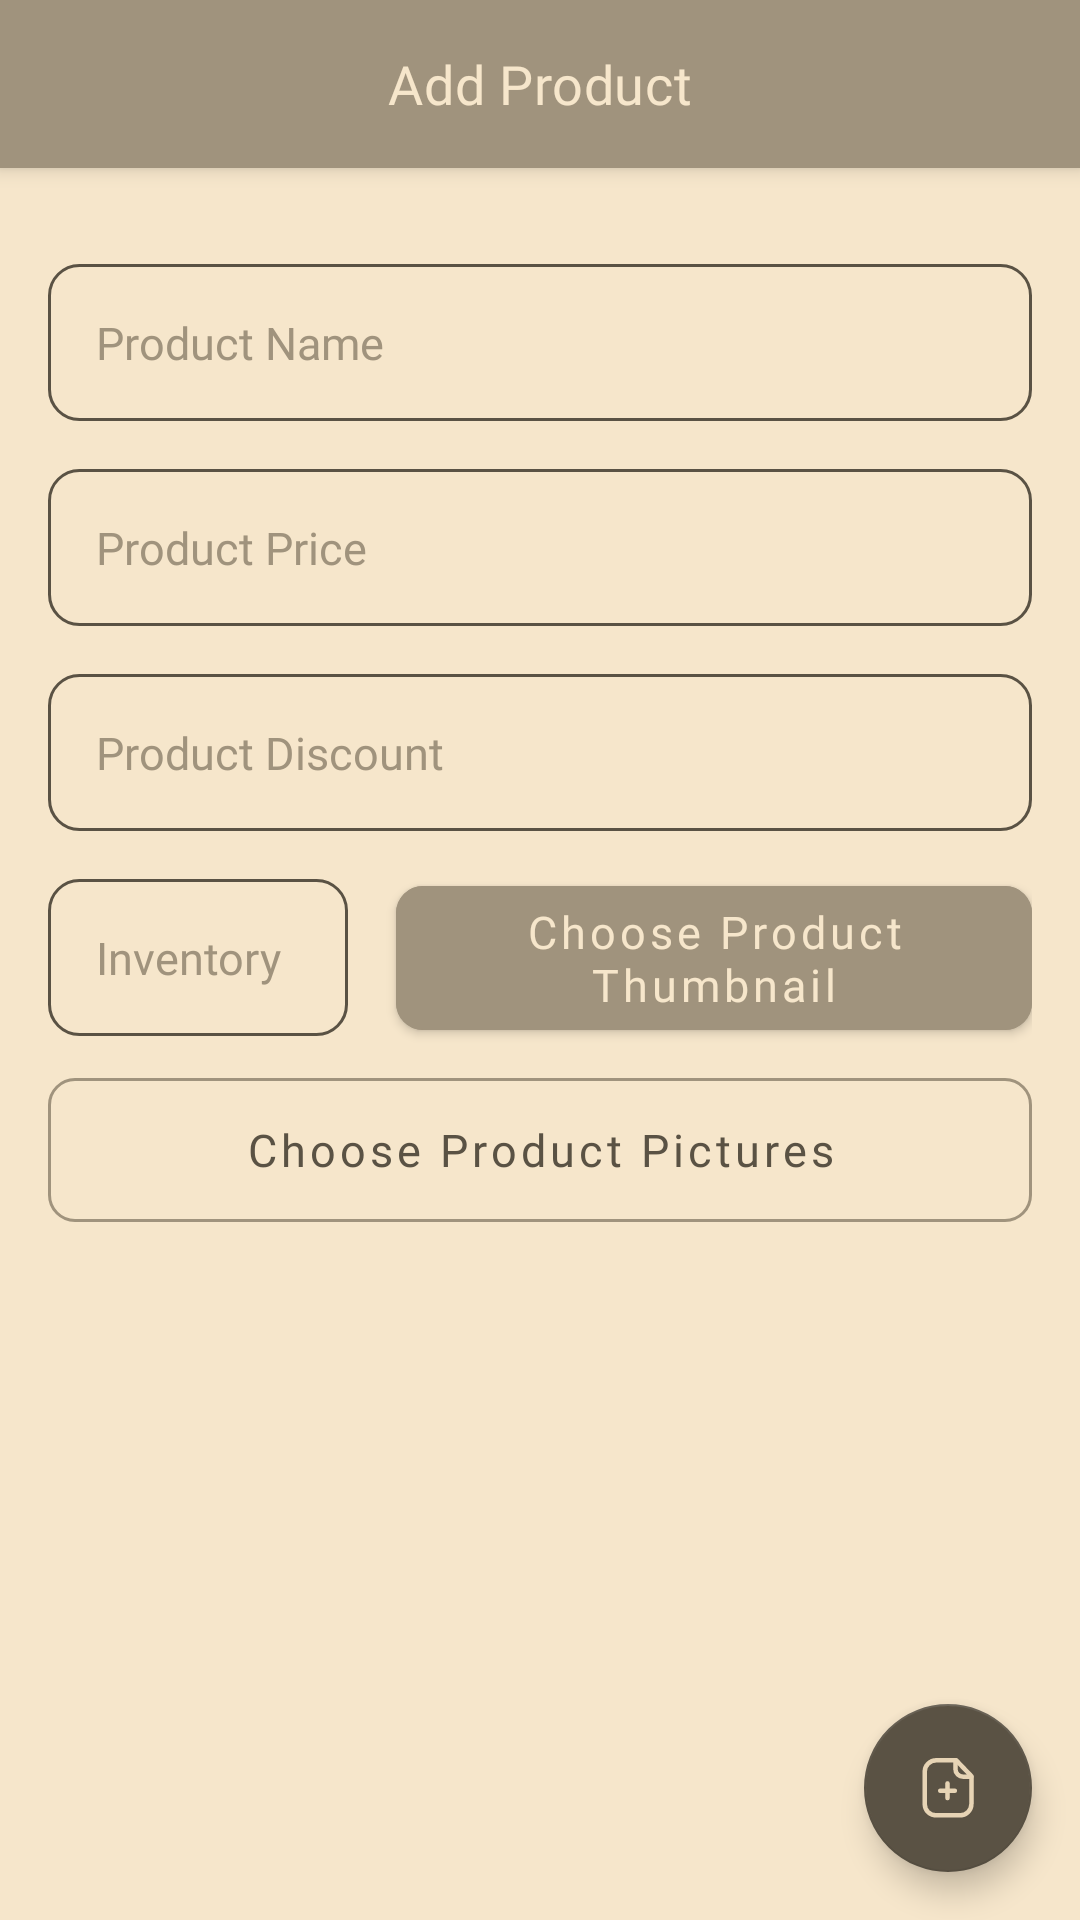

Icons on this 1080*1920 Android screen, each with its box as (x1, y1, x2, y2):
add product: (864, 1704, 1032, 1872)
